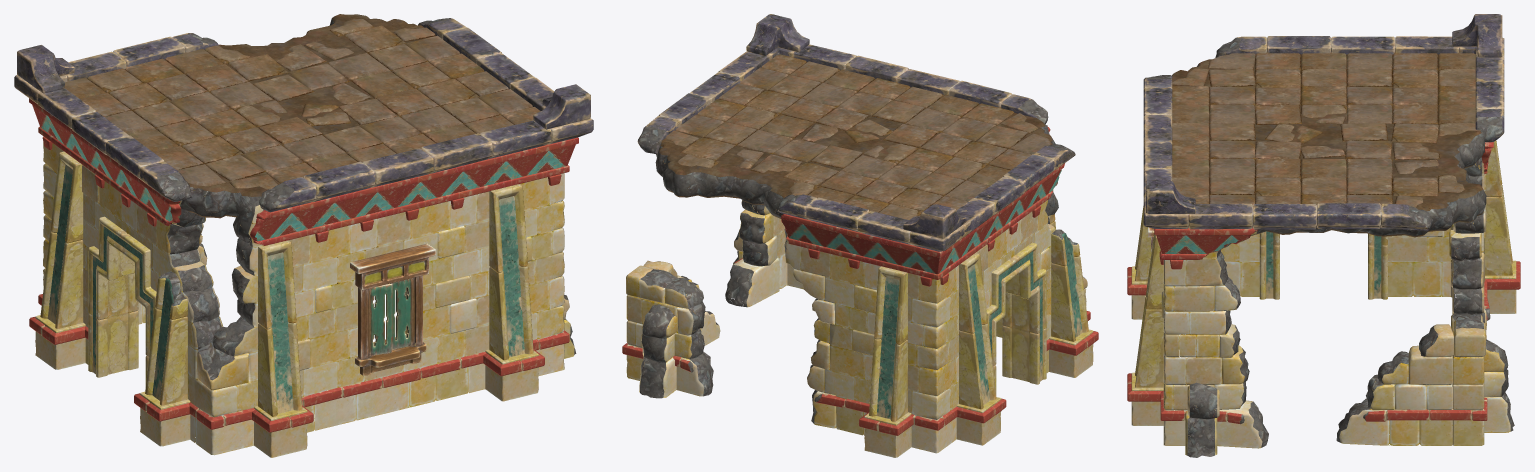
The picture shows the model from 3 angles, left to right: view 1: azimuth 30°, elevation 25°; view 2: azimuth 150°, elevation 25°; view 3: azimuth 270°, elevation 25°; orthographic projection. The views are drawn at different scales.
Visible parts, largest first — view 1: SM_Menaphite_Ruins_03_LOD0; view 2: SM_Menaphite_Ruins_03_LOD0; view 3: SM_Menaphite_Ruins_03_LOD0.
Part boxes in pixels (box(x1,y1,x2,y2)): SM_Menaphite_Ruins_03_LOD0: box(14, 14, 593, 457); SM_Menaphite_Ruins_03_LOD0: box(622, 14, 1098, 457); SM_Menaphite_Ruins_03_LOD0: box(1127, 14, 1520, 457).
Bounding box in the file's own units: 14.03 × 9.04 × 12.27.
Materials: 10 (10 with a texture image).
